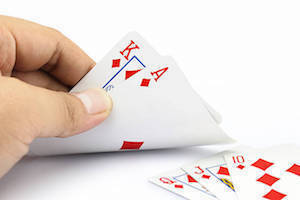AceOfDiamonds: (83, 66, 241, 152)
JackOfDiamonds: (185, 157, 236, 199)
KingOfDiamonds: (82, 33, 154, 81)
QueenOfDiamonds: (148, 169, 199, 200)
TenOfDiamonds: (223, 148, 300, 198)
